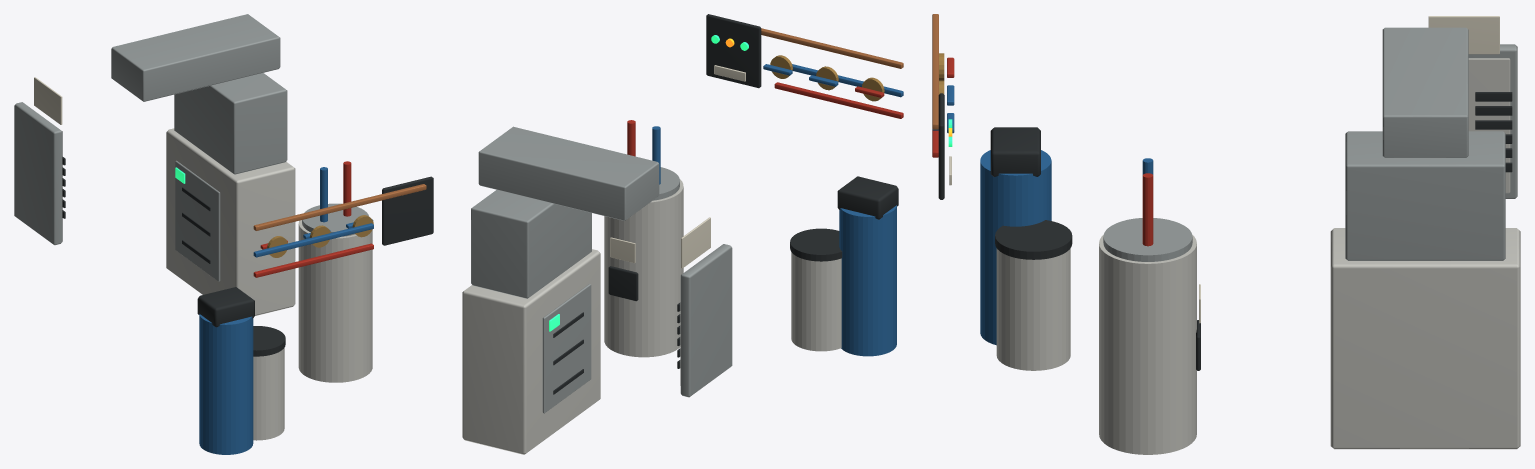
Rendered from mechanical-furniture-v002.glb.
The picture shows the model from 3 angles, left to right: view 1: azimuth 30°, elevation 25°; view 2: azimuth 150°, elevation 25°; view 3: azimuth 270°, elevation 25°; orthographic projection. The views are drawn at different scales.
Visible parts, largest first — view 1: Export High efficiency furnace; view 2: Export High efficiency furnace; view 3: Export High efficiency furnace.
Part boxes in pixels (x1,y1,x2,y2): Export High efficiency furnace: (14, 14, 433, 454); Export High efficiency furnace: (462, 14, 903, 454); Export High efficiency furnace: (932, 14, 1520, 454).
Size of the model in its own units: 2.23 by 2.54 by 3.96.
